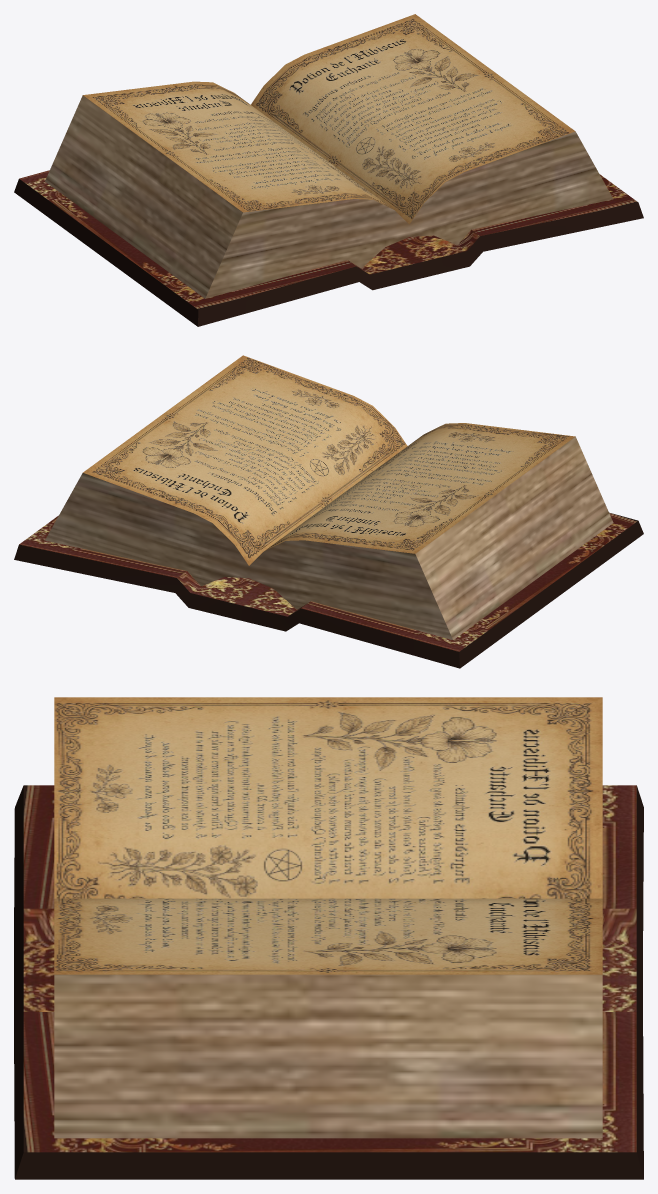
File: Book_Open.fbx
3 views of the same model, one above another, from view 1: azimuth 30°, elevation 25°; view 2: azimuth 150°, elevation 25°; view 3: azimuth 270°, elevation 25° (orthographic). The views are drawn at different scales.
Parts seen in each view (by area): view 1: Book_Open; view 2: Book_Open; view 3: Book_Open.
Part boxes in pixels (x1=…): Book_Open: x1=14, y1=14, x2=643, y2=326; Book_Open: x1=14, y1=355, x2=643, y2=668; Book_Open: x1=14, y1=697, x2=643, y2=1179.
Bounding box in the file's own units: 88.9 × 18.64 × 63.61.
